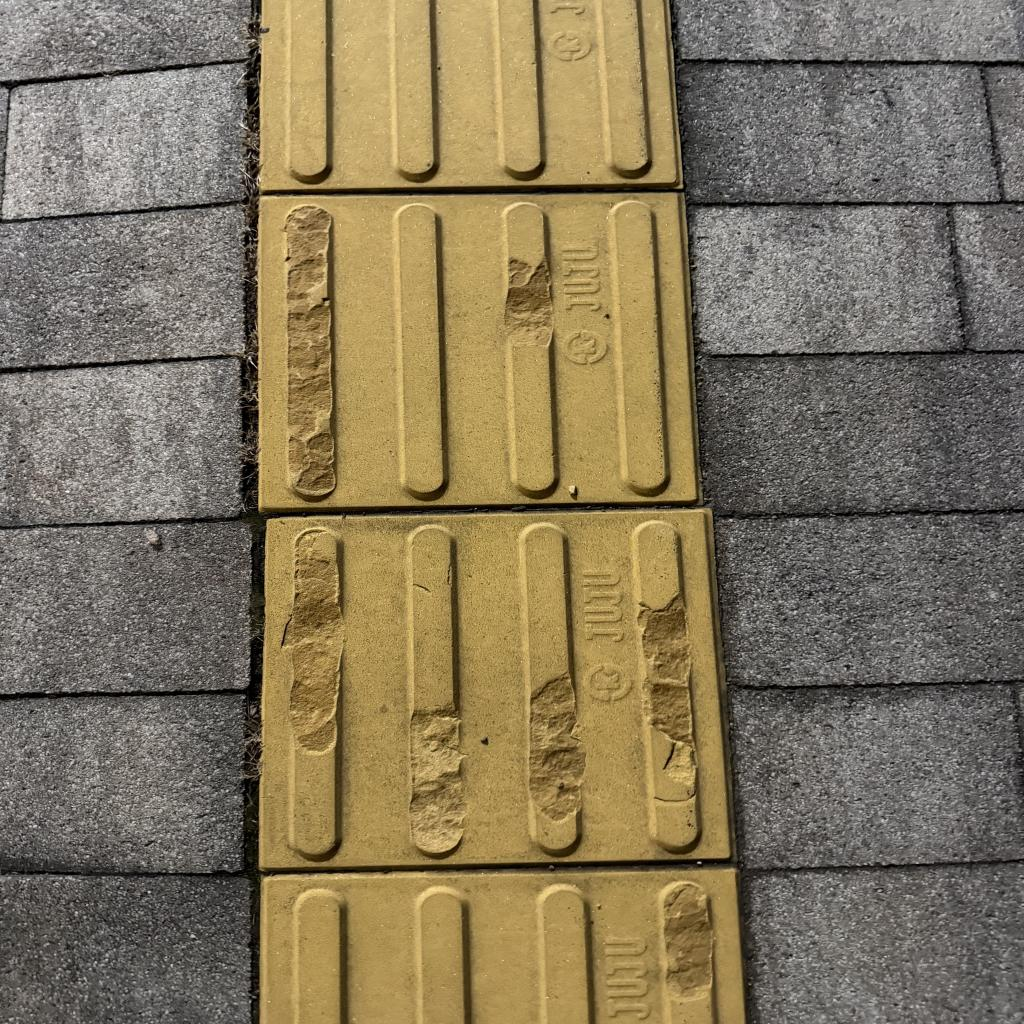Straight block broken: (253, 510, 730, 866)
